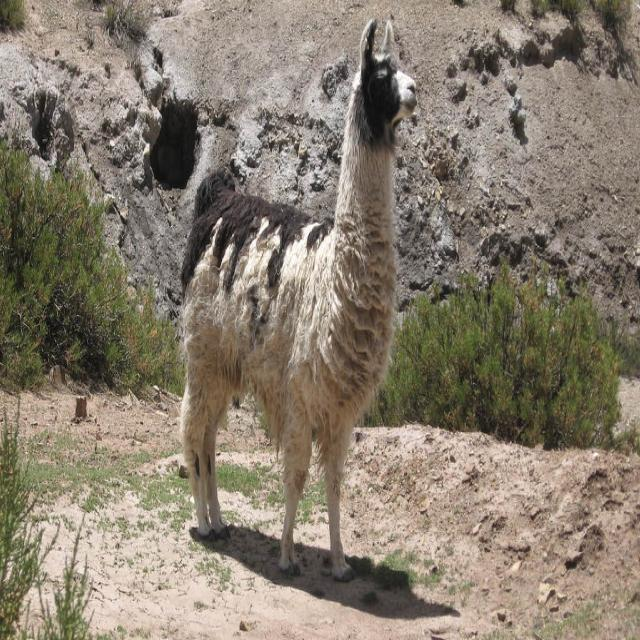alpaca: (180, 19, 418, 582)
